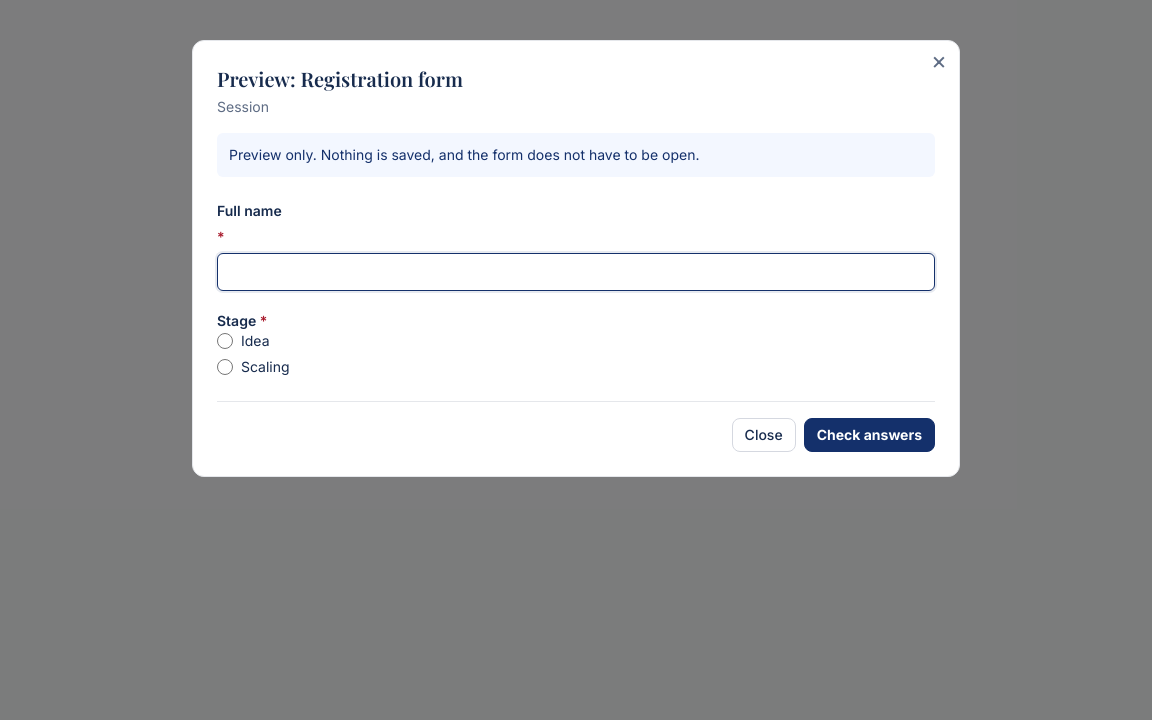
Scenario: PreviewDialog › accepts a complete set of answers without saving anything
Type "Aline" into the field labelled "Full name *" at (576, 272), box [217,253,935,291]
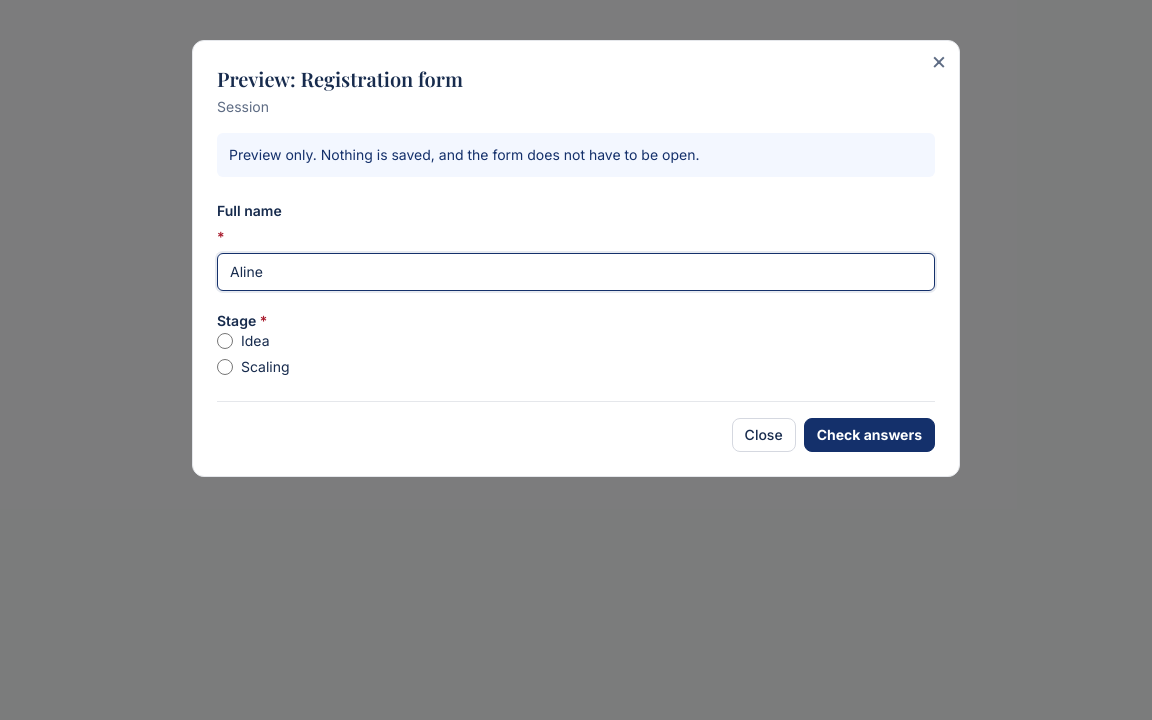
Click the radio button labelled "Idea" at (225, 341), box [217,333,233,349]
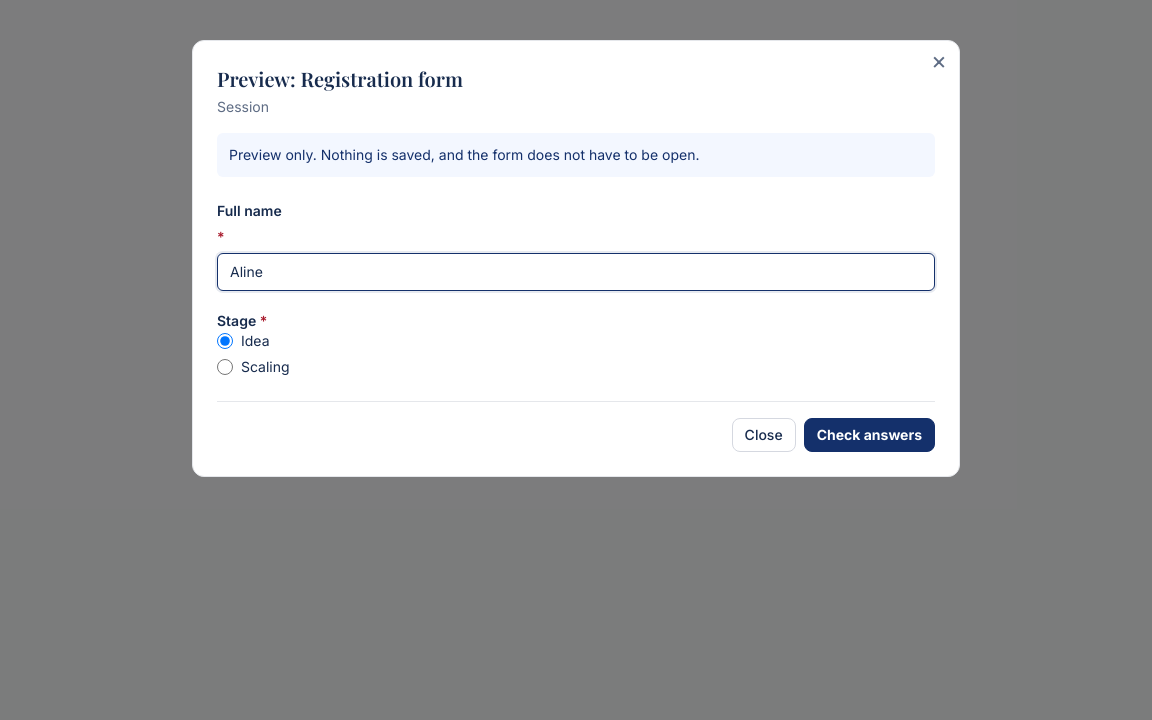
Click the button "Check answers" at (869, 435), box [804,418,935,452]
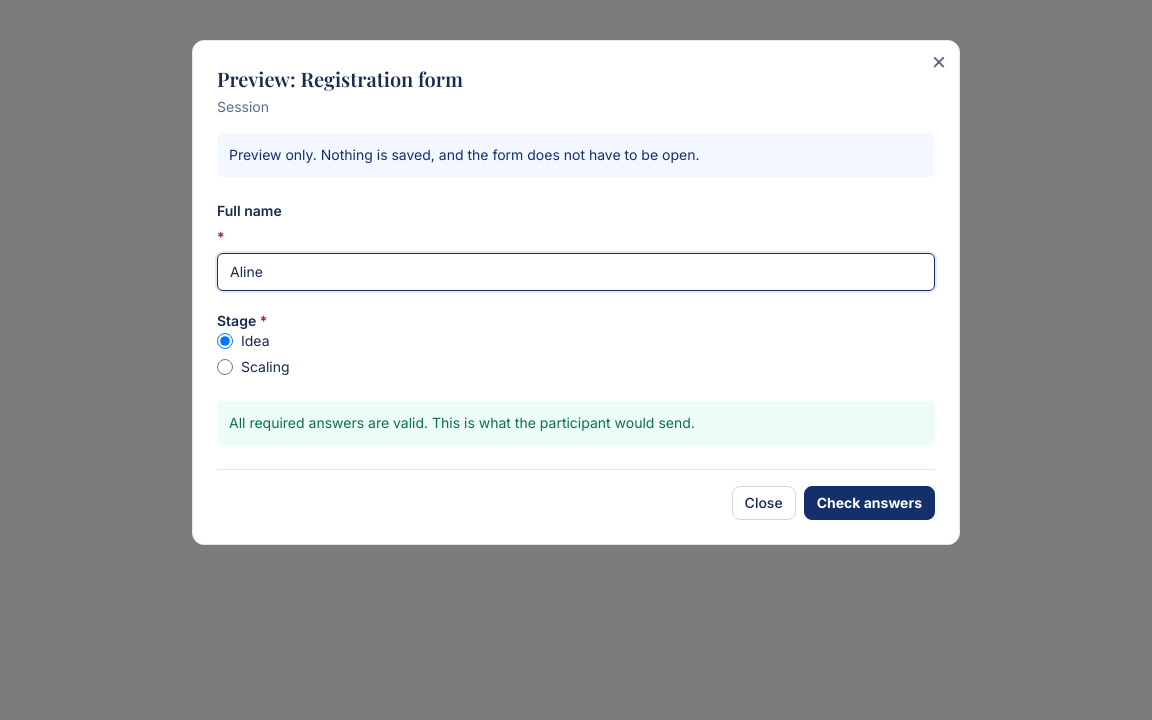
Check: the message shows "All required answers are valid.", box [229,414,695,431]
